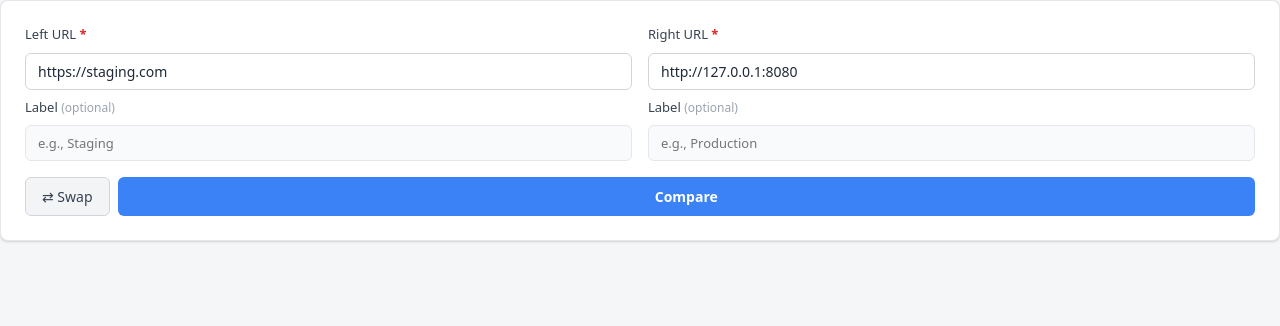
Scenario: ControlPlane › shows private IP warning for 127.0.0.1 (right URL)
Click the button "Compare" at (686, 196), box x1=118 y1=177 x2=1255 y2=216
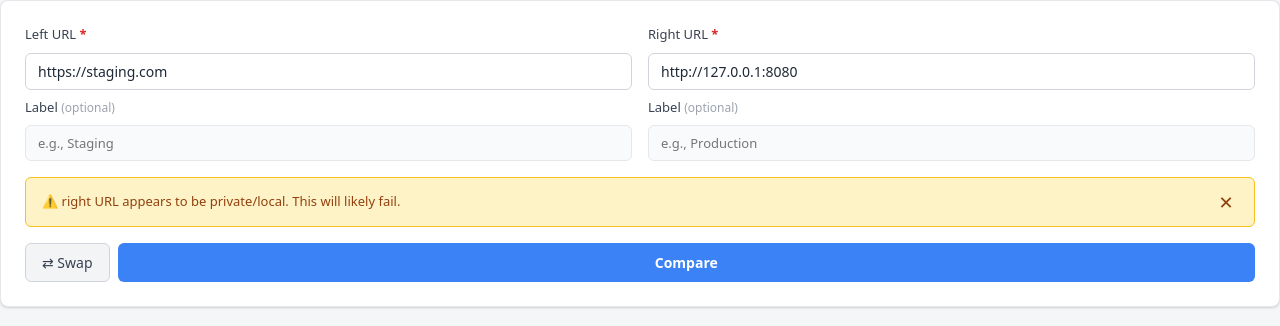
Expected: the text "right URL appears to be private" is shown, x1=62 y1=192 x2=285 y2=210
